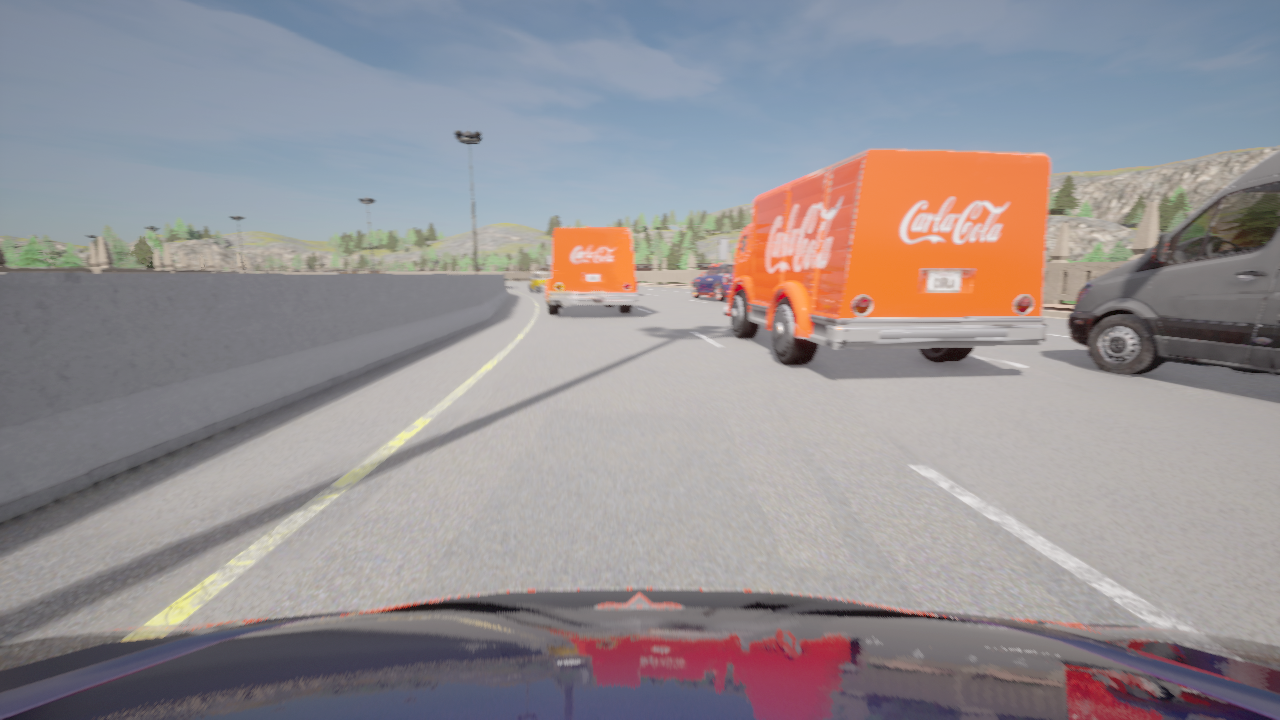cyclist: (0, 588, 1279, 719), (718, 149, 1051, 365), (1069, 150, 1279, 375), (545, 227, 638, 314), (691, 263, 734, 301), (529, 271, 550, 292), (635, 277, 638, 294)
